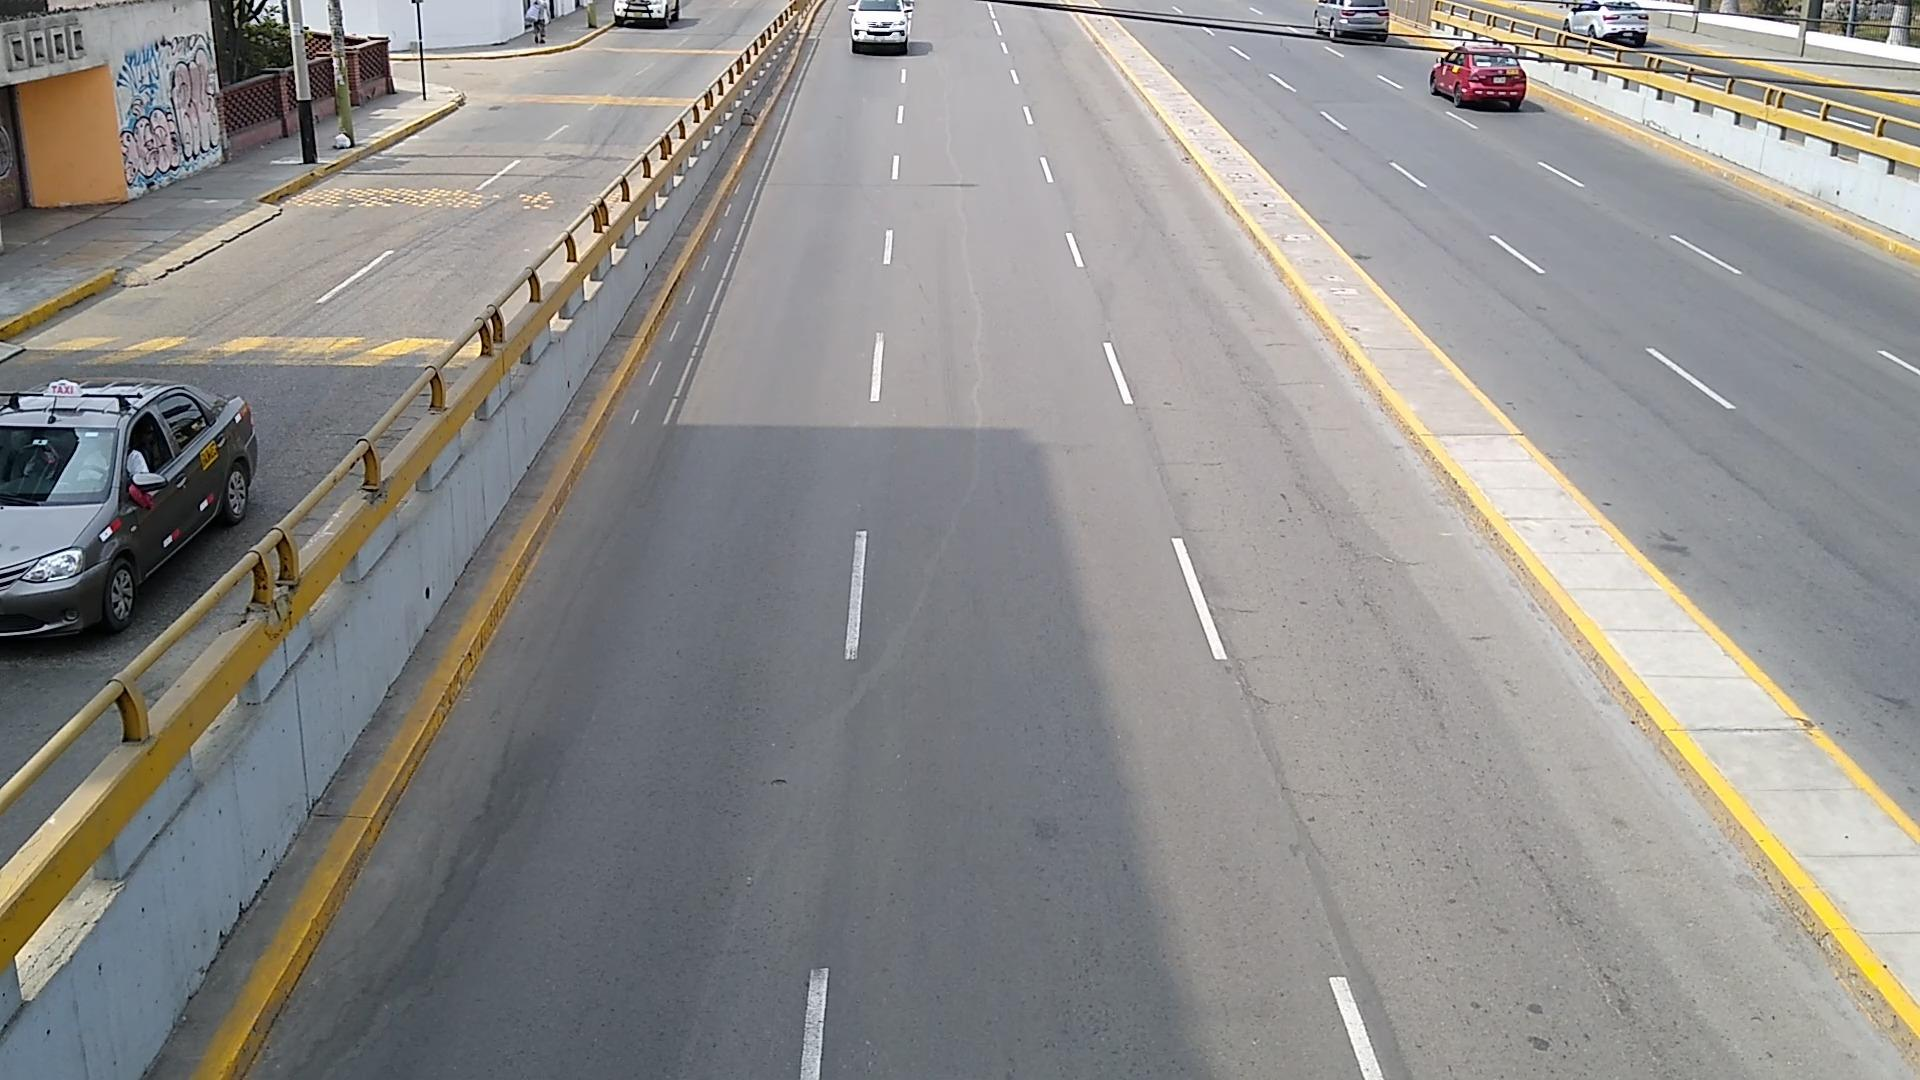car: (0, 378, 258, 636), (1428, 45, 1526, 108), (1564, 0, 1650, 44), (1312, 0, 1391, 41), (852, 0, 911, 53)
